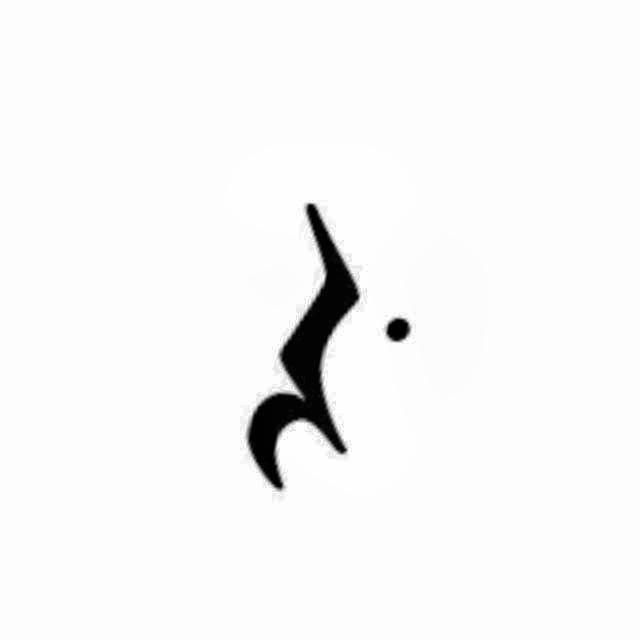Quarter-rest: (213, 186, 415, 508)
